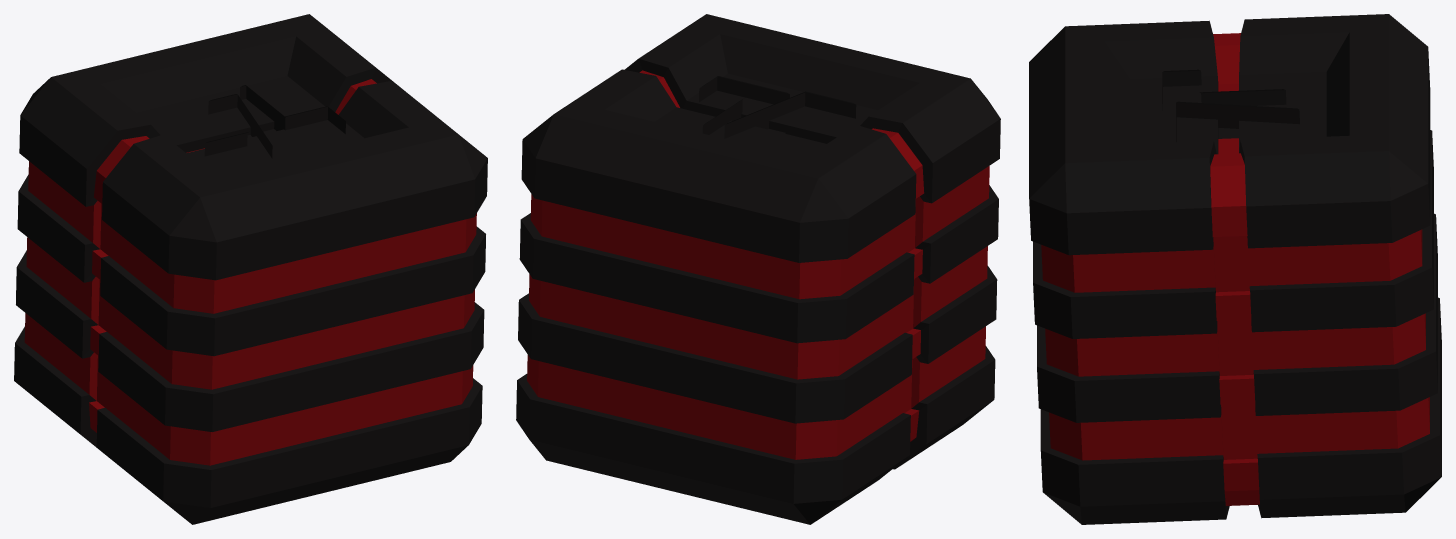
The picture shows the model from 3 angles, left to right: view 1: azimuth 30°, elevation 25°; view 2: azimuth 150°, elevation 25°; view 3: azimuth 270°, elevation 25°; orthographic projection. The views are drawn at different scales.
Visible parts, largest first — view 1: Curve.001; view 2: Curve.001; view 3: Curve.001.
Part boxes in pixels (left/top/right/bottom): Curve.001: left=14, top=14, right=487, bottom=524; Curve.001: left=516, top=14, right=1000, bottom=524; Curve.001: left=1029, top=14, right=1441, bottom=524.
Size of the model in its own units: 0.655 by 0.6767 by 0.6767.
